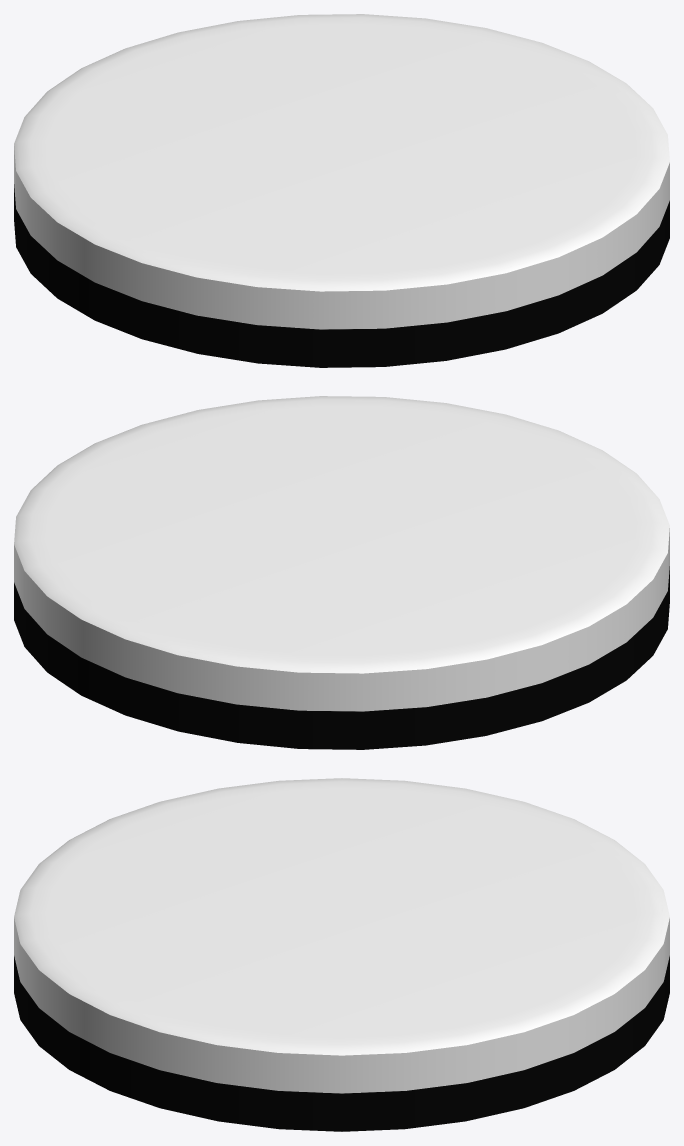
The model's file is Disk.glb.
The picture shows the model from 3 angles, top to bottom: view 1: azimuth 30°, elevation 25°; view 2: azimuth 150°, elevation 25°; view 3: azimuth 270°, elevation 25°; orthographic projection.
Parts seen in each view (by area): view 1: Disk; view 2: Disk; view 3: Disk.
Part boxes in pixels (x1=…): Disk: x1=14, y1=14, x2=669, y2=367; Disk: x1=14, y1=396, x2=669, y2=749; Disk: x1=14, y1=778, x2=669, y2=1131.
Bounding box in the file's own units: 0.0352 × 0.005 × 0.0352.
1 material, 1 textured.
